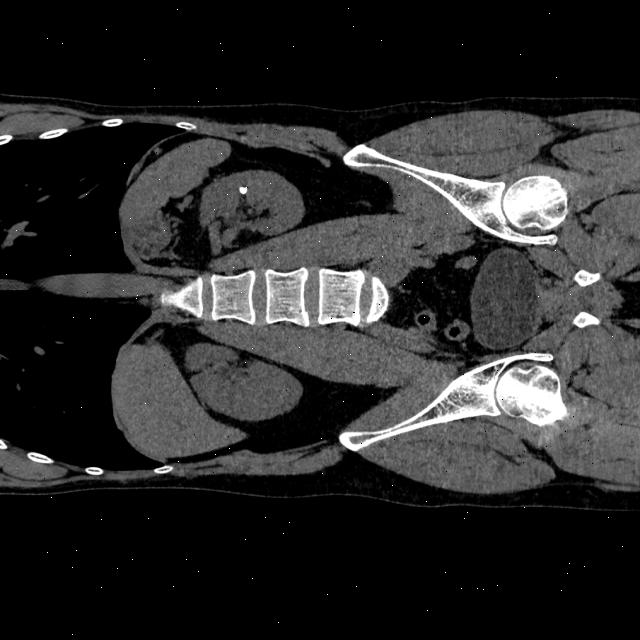kidneystone: (238, 185, 248, 194)
